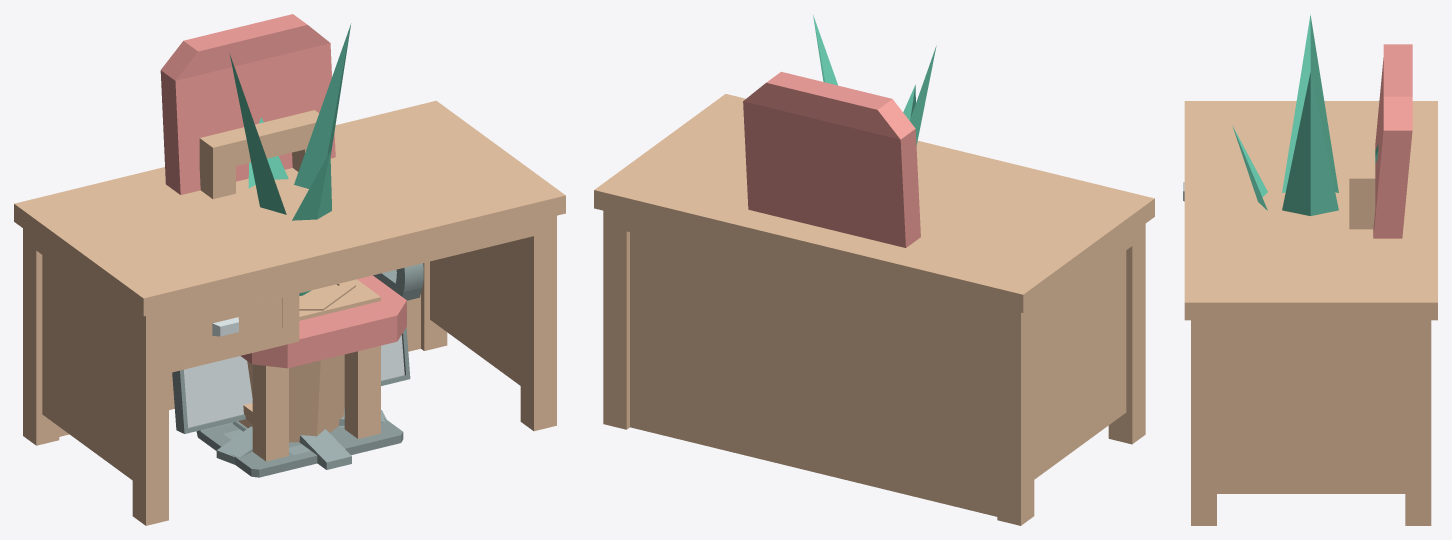
The model's file is furniture.glb.
3 renders of one model, left to right at view 1: azimuth 30°, elevation 25°; view 2: azimuth 150°, elevation 25°; view 3: azimuth 270°, elevation 25°, orthographic. The views are drawn at different scales.
Visible parts, largest first — view 1: Mesh desk, chair, chair(Clone), plant, computerScreen(Clone), Mesh pottedPlant, laptop(Clone), drawer, Mesh chairDesk; view 2: Mesh desk, chair, plant; view 3: Mesh desk, plant, chair, chair(Clone).
Part boxes in pixels (x1,y1,x2,y2): Mesh desk: [14, 100, 565, 525]; chair: [160, 14, 423, 368]; chair(Clone): [199, 110, 380, 461]; plant: [229, 23, 351, 295]; computerScreen(Clone): [172, 327, 410, 433]; Mesh pottedPlant: [238, 281, 355, 442]; laptop(Clone): [196, 407, 403, 477]; drawer: [169, 297, 281, 354]; Mesh chairDesk: [216, 408, 386, 469]; Mesh desk: [594, 94, 1154, 525]; chair: [743, 71, 920, 247]; plant: [813, 15, 936, 144]; Mesh desk: [1184, 101, 1437, 525]; plant: [1232, 14, 1378, 215]; chair: [1373, 44, 1412, 238]; chair(Clone): [1349, 124, 1375, 229].
Bounding box in the file's own units: 0.7345 × 0.654 × 0.3923.
